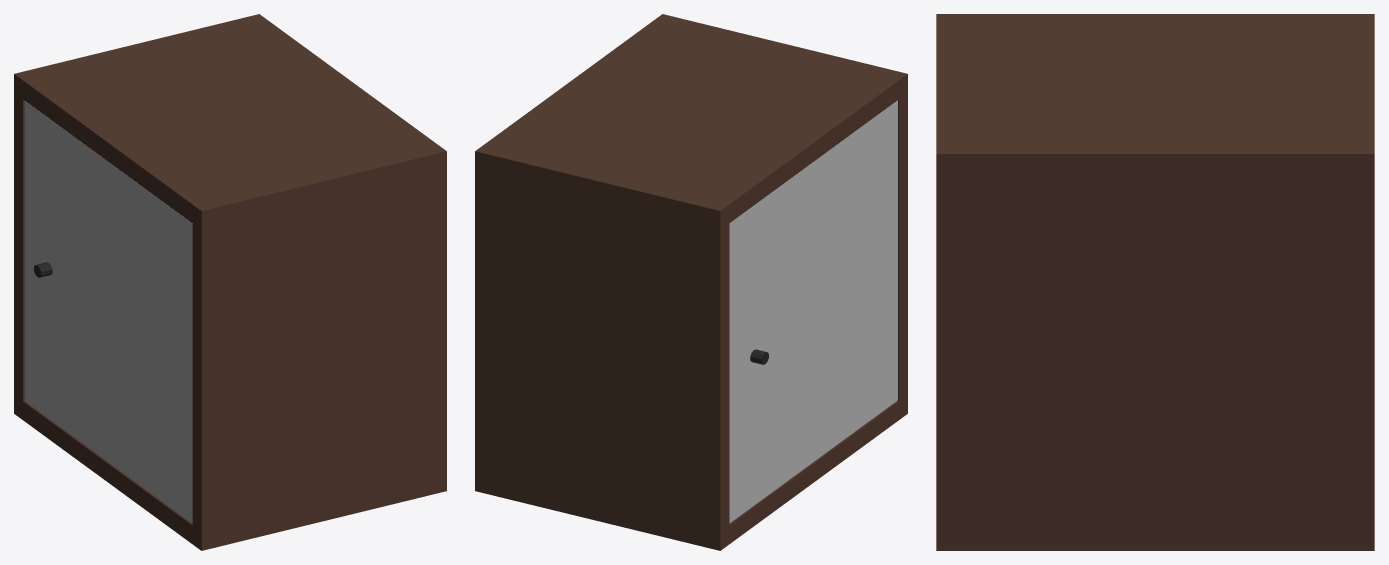
Rendered from Cabinet101.fbx.
The picture shows the model from 3 angles, left to right: view 1: azimuth 30°, elevation 25°; view 2: azimuth 150°, elevation 25°; view 3: azimuth 270°, elevation 25°; orthographic projection. The views are drawn at different scales.
Parts seen in each view (by area): view 1: Body101, Door101; view 2: Body101, Door101; view 3: Body101.
Part boxes in pixels (x1,y1,x2,y2): Body101: (14,14,446,550); Door101: (24,101,192,523); Body101: (475,14,907,550); Door101: (729,100,897,523); Body101: (936,14,1374,550).
Bounding box in the file's own units: 78.85 × 100 × 100.
